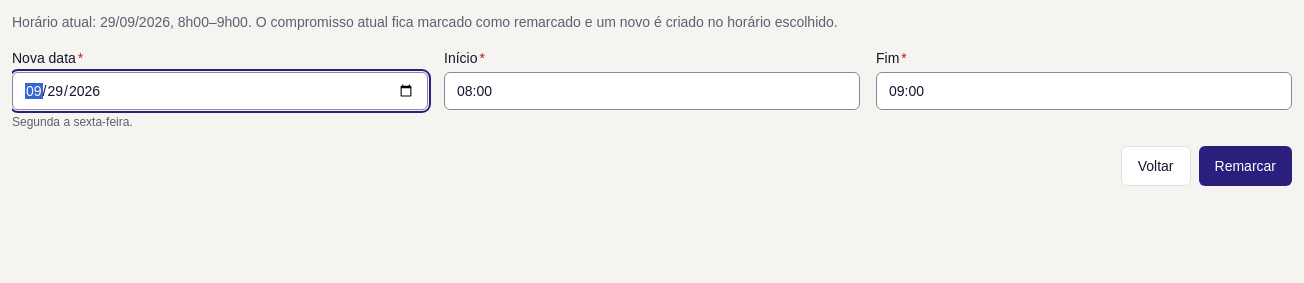
Scenario: RemarcarDialog › Remarcar_bloqueio_em_conflito_mostra_a_lista
Click the button "Remarcar": x=1245, y=166 [1198, 146, 1292, 186]
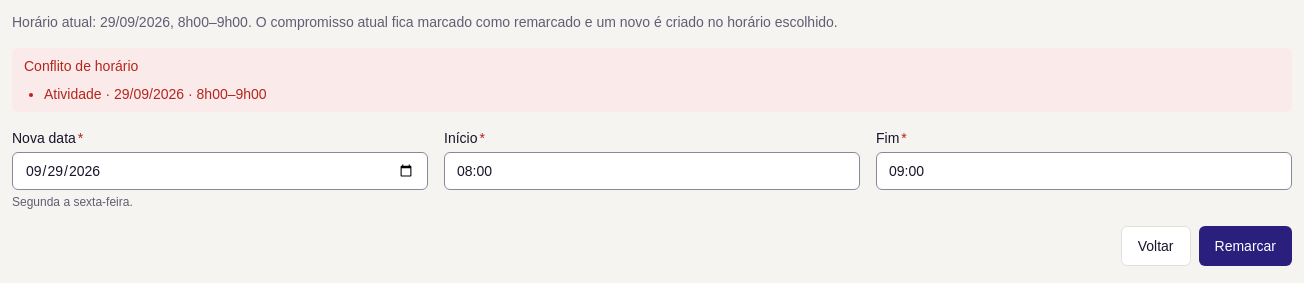
Now the list named "Itens em conflito" shows "Atividade", box [44, 86, 102, 102]
